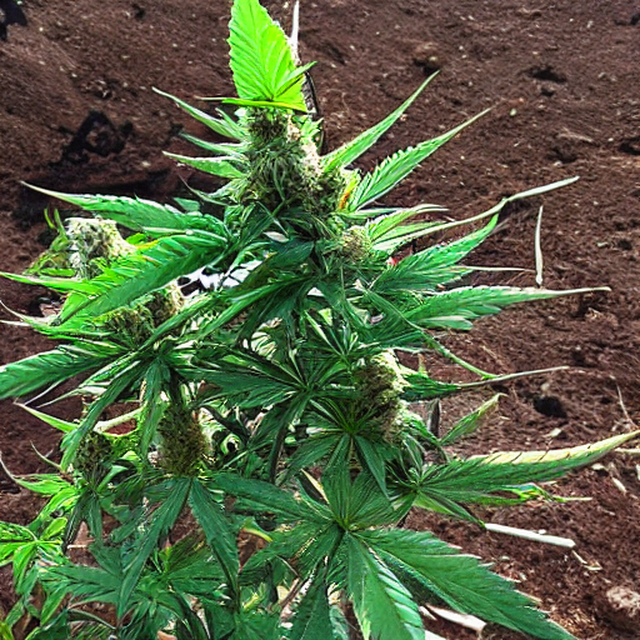Marijuana Plant: (0, 0, 613, 639)
